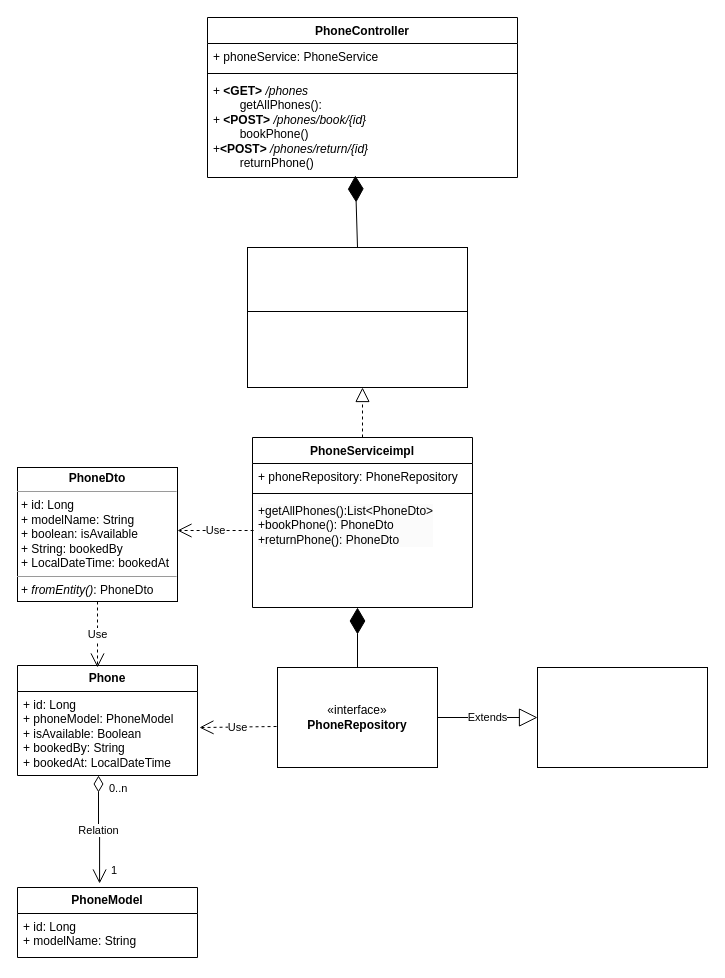
This 725x978 diagram has some shape labels left out. The centre of each missing label's shape, as x and y in pixels:
"«interface» JpaRepository (check official spring-jpa docs)" goes at point 622,717.
"«interface» PhoneService +getAllPhones() +bookPhone() +returnPhone()" goes at point 357,317.
